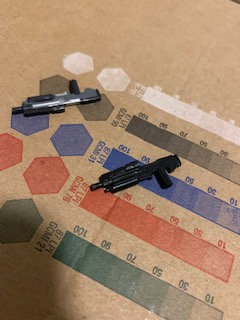rifle: (86, 153, 184, 195), (9, 78, 105, 119)
